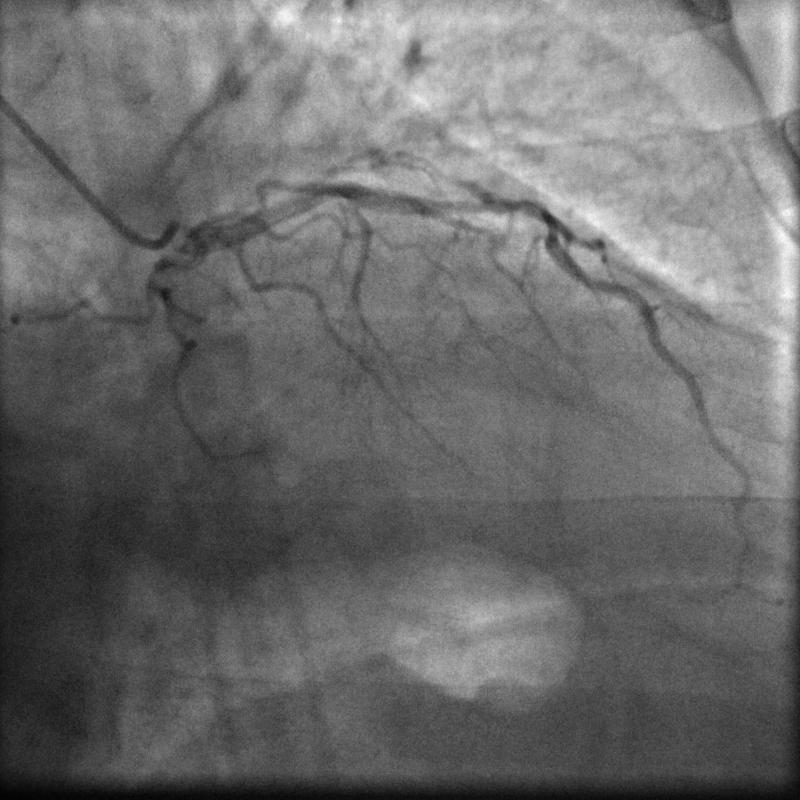Stenosis: (490, 193, 561, 235)
